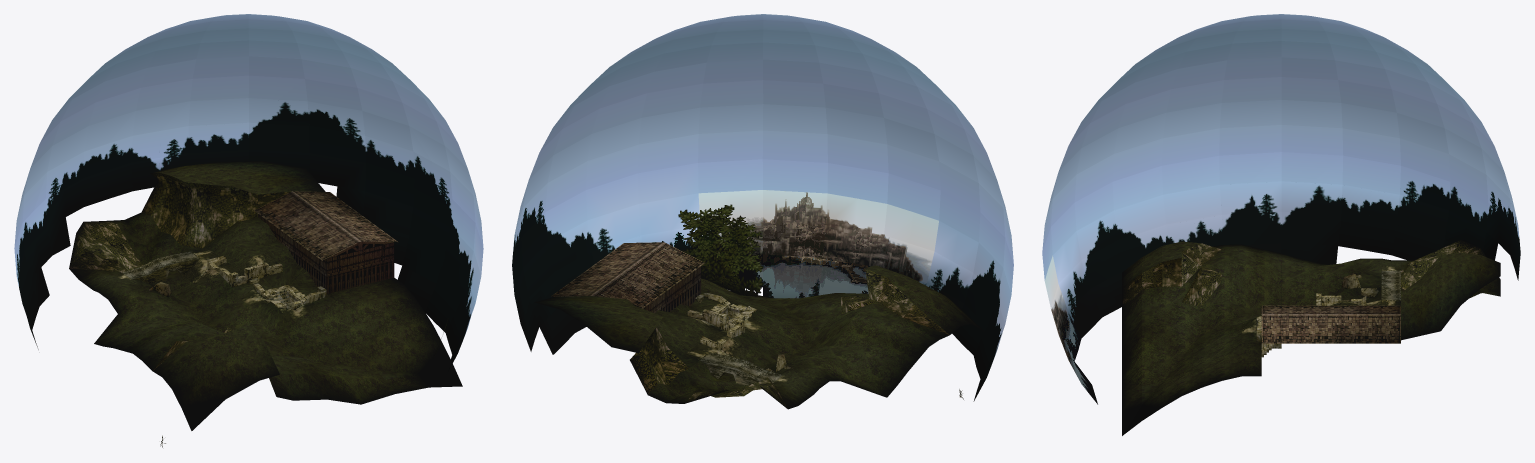
The model's file is MAP211.gltf.
The picture shows the model from 3 angles, left to right: view 1: azimuth 30°, elevation 25°; view 2: azimuth 150°, elevation 25°; view 3: azimuth 270°, elevation 25°; orthographic projection. The views are drawn at different scales.
Bounding box in the file's own units: 614 × 494 × 614.
45 materials, 45 textured.
